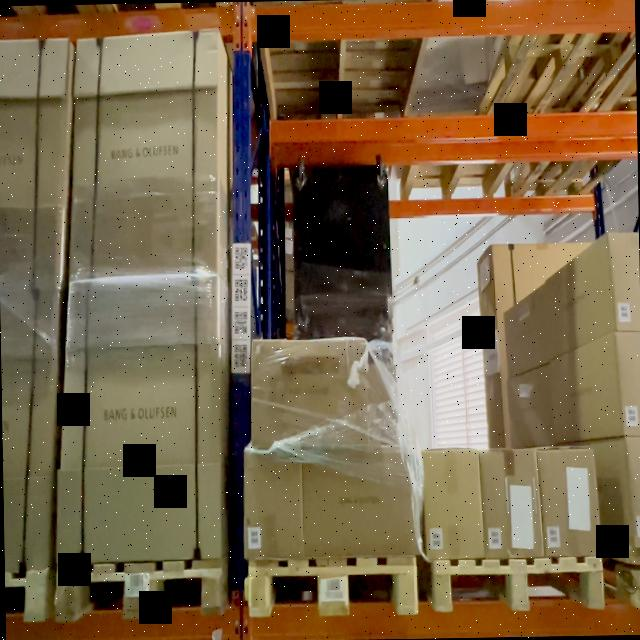box: (61, 279, 216, 560), (71, 30, 215, 282), (252, 339, 368, 445), (302, 456, 417, 557), (480, 448, 543, 552), (424, 449, 483, 557), (539, 450, 600, 550), (244, 452, 302, 556)
